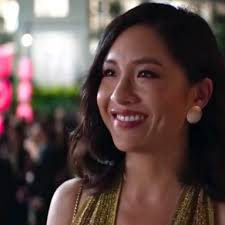asian_female: (68, 2, 208, 175)
